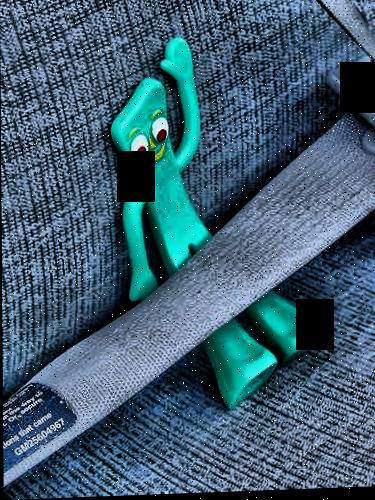seatbelt: (40, 87, 370, 444)
